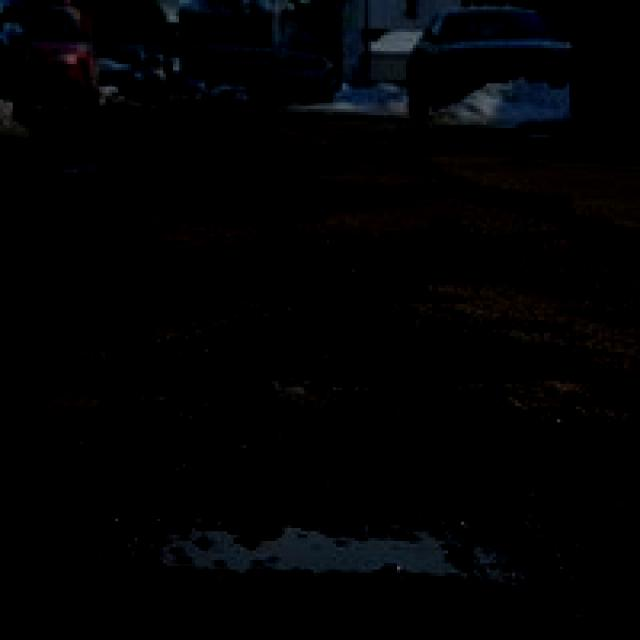Pothole: (0, 215, 640, 640), (87, 137, 457, 213)
